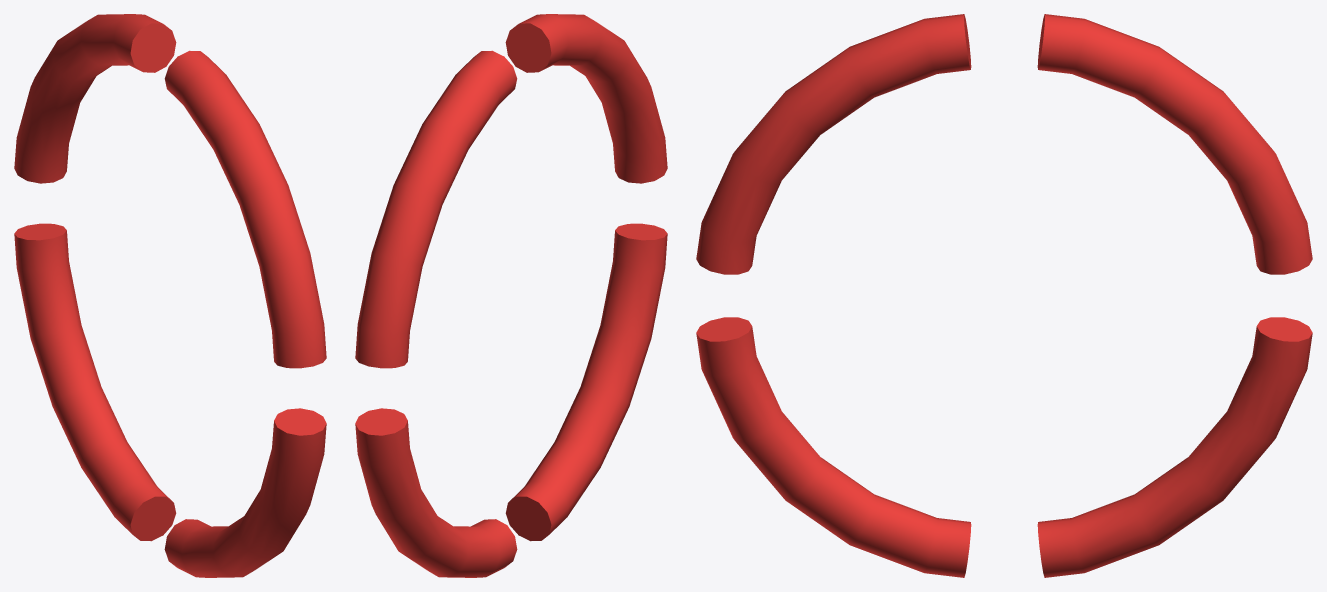
Rendered from GizmoXRotation.fbx.
3 views of the same model, side by side, from view 1: azimuth 30°, elevation 25°; view 2: azimuth 150°, elevation 25°; view 3: azimuth 270°, elevation 25° (orthographic). The views are drawn at different scales.
Parts seen in each view (by area): view 1: Torus.002; view 2: Torus.002; view 3: Torus.002.
Boxes of the visible parts, x1=… form: Torus.002: x1=14, y1=14, x2=326, y2=577; Torus.002: x1=355, y1=14, x2=667, y2=577; Torus.002: x1=696, y1=14, x2=1312, y2=577.
Bounding box in the file's own units: 20 × 216 × 216.
